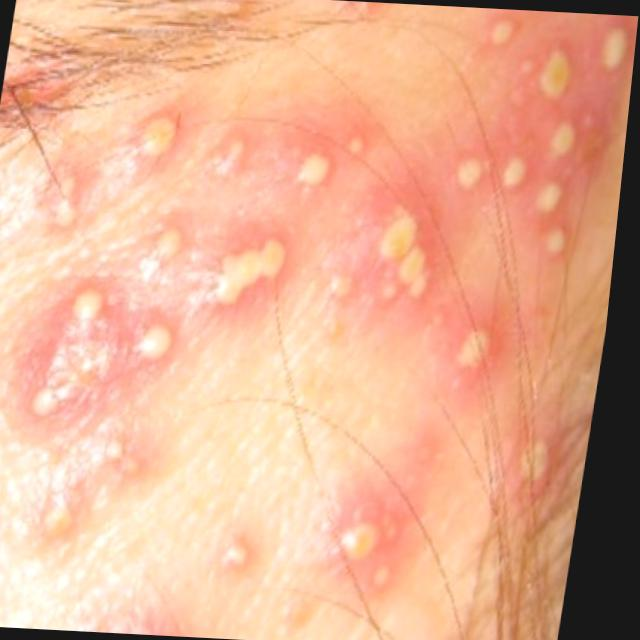pustule: (0, 9, 639, 640)
